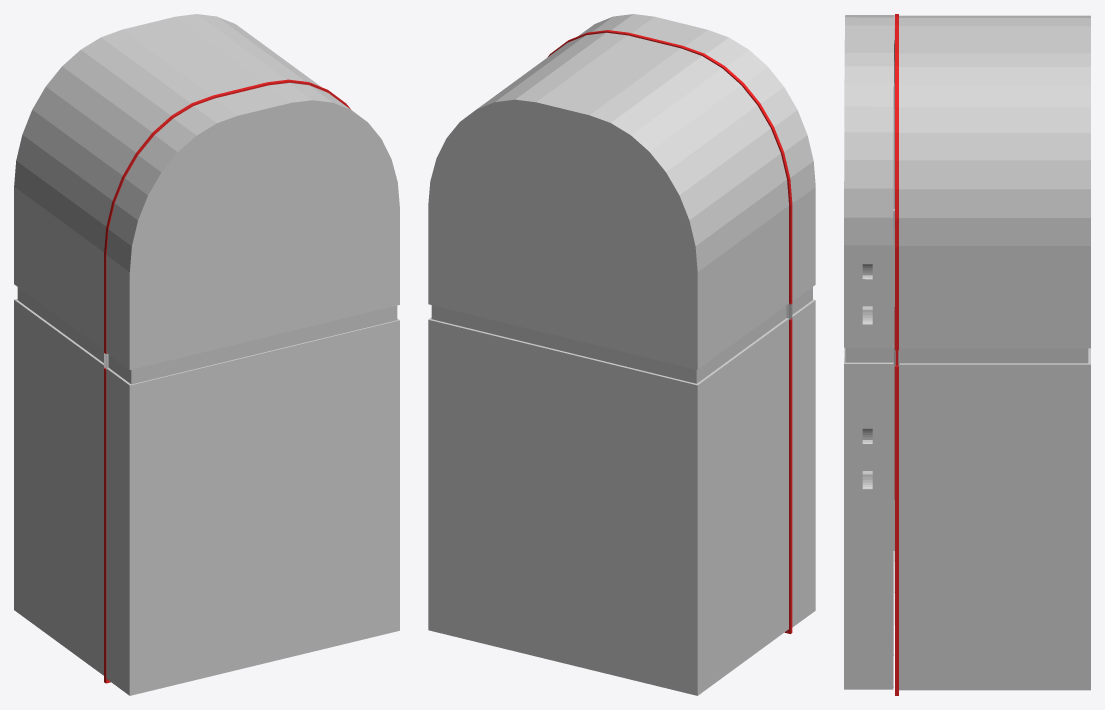
Rendered from fridge.fbx.
The picture shows the model from 3 angles, left to right: view 1: azimuth 30°, elevation 25°; view 2: azimuth 150°, elevation 25°; view 3: azimuth 270°, elevation 25°; orthographic projection. The views are drawn at different scales.
Parts seen in each view (by area): view 1: Cube.001, Cube; view 2: Cube, Cube.001; view 3: Cube, Cube.001.
Boxes of the visible parts, x1=… form: Cube.001: x1=106, y1=83, x2=399, y2=695; Cube: x1=14, y1=14, x2=350, y2=683; Cube: x1=428, y1=30, x2=792, y2=695; Cube.001: x1=578, y1=14, x2=815, y2=627; Cube: x1=894, y1=14, x2=1090, y2=695; Cube.001: x1=844, y1=15, x2=894, y2=689.
Bounding box in the file's own units: 352 × 693 × 264.
